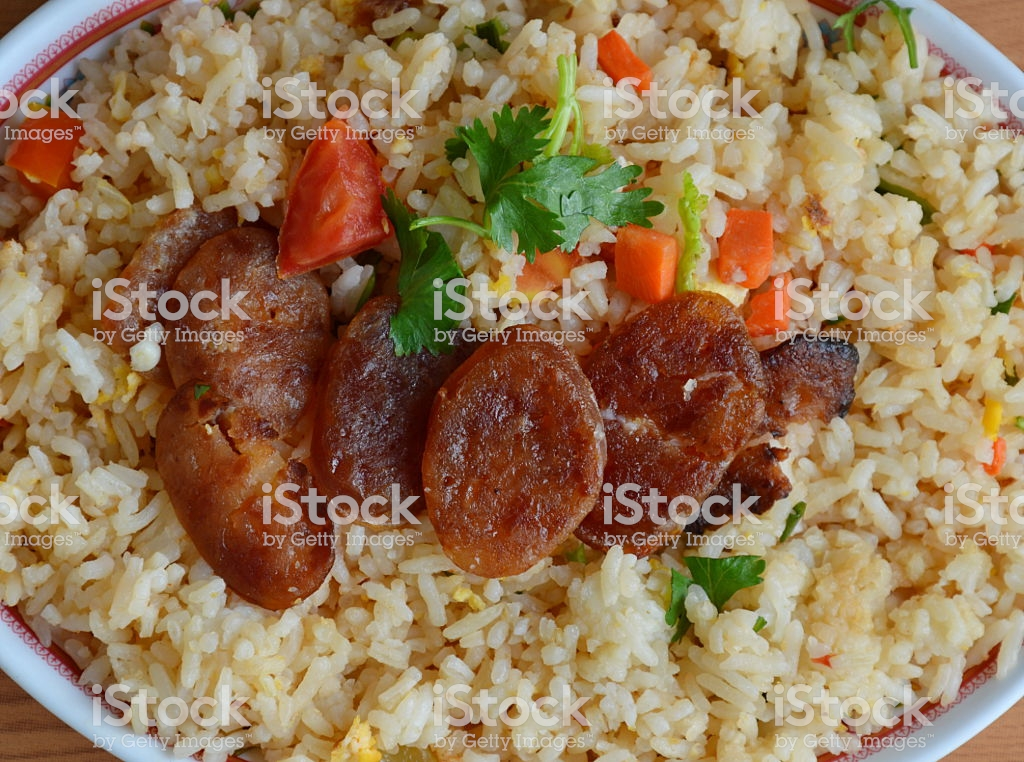chinese_sausage: (410, 343, 578, 575), (162, 384, 322, 586), (333, 328, 478, 512), (179, 252, 328, 422), (598, 335, 718, 536), (758, 339, 868, 499), (103, 220, 187, 310)
